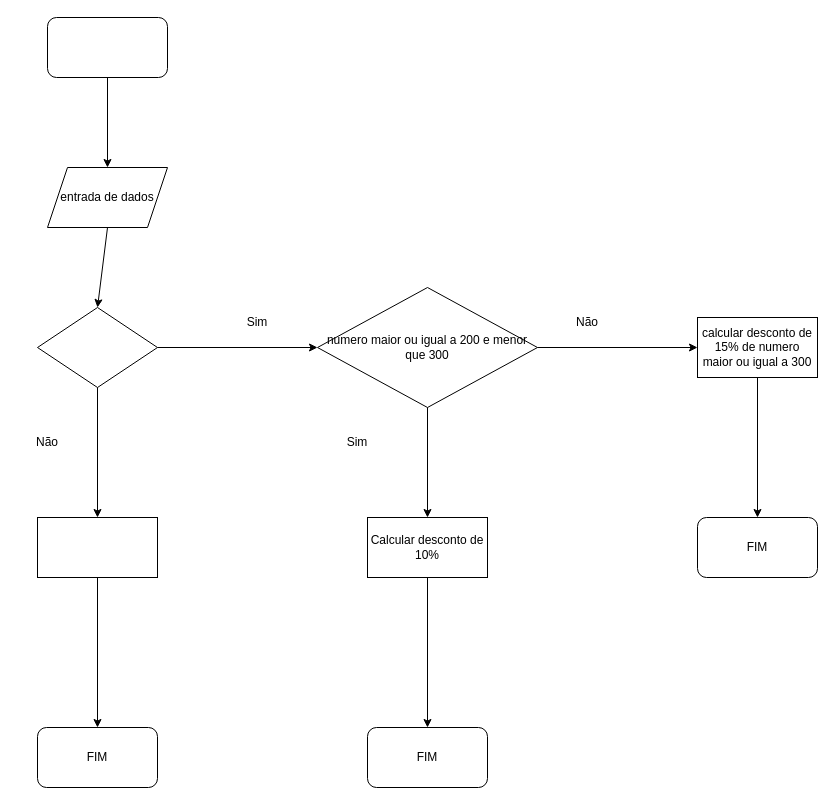
Some shapes in this 835 by 805 pixel diagram are drawn without their labels. Each missing label, with the centre of its shape:
"Calcular desconto de 5%" goes at point (97, 547).
"Inicio" goes at point (107, 47).
"numero maior que 200?" goes at point (97, 347).
